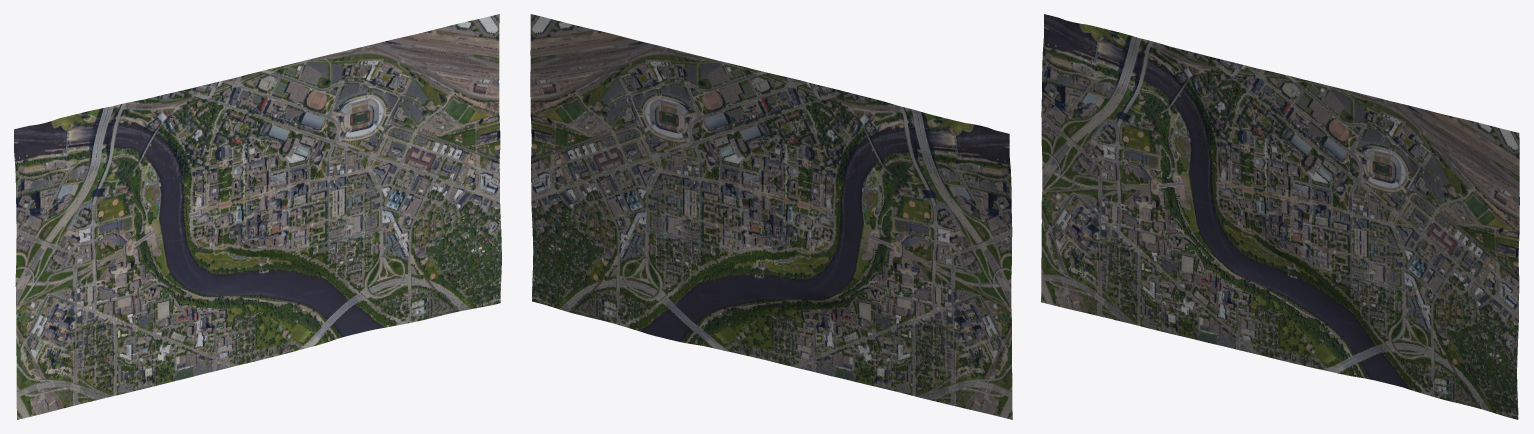
The model's file is terrain.obj.
3 renders of one model, left to right at view 1: azimuth 30°, elevation 25°; view 2: azimuth 150°, elevation 25°; view 3: azimuth 330°, elevation 25°, orthographic.
Size of the model in its own units: 3036 by 1735 by 65.92.
1 material, 1 textured.
